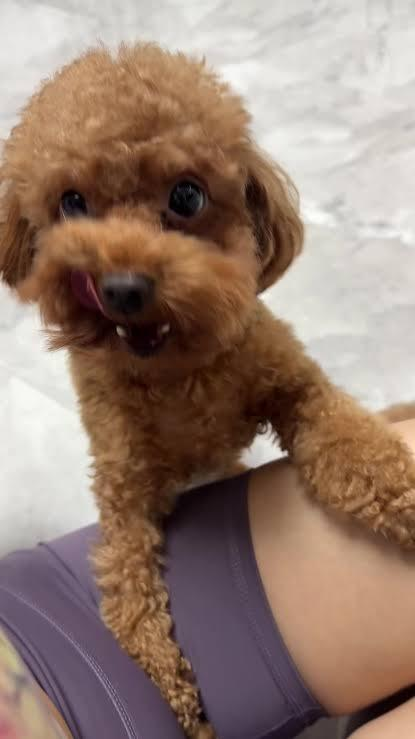adult_dog: (0, 36, 415, 731)
